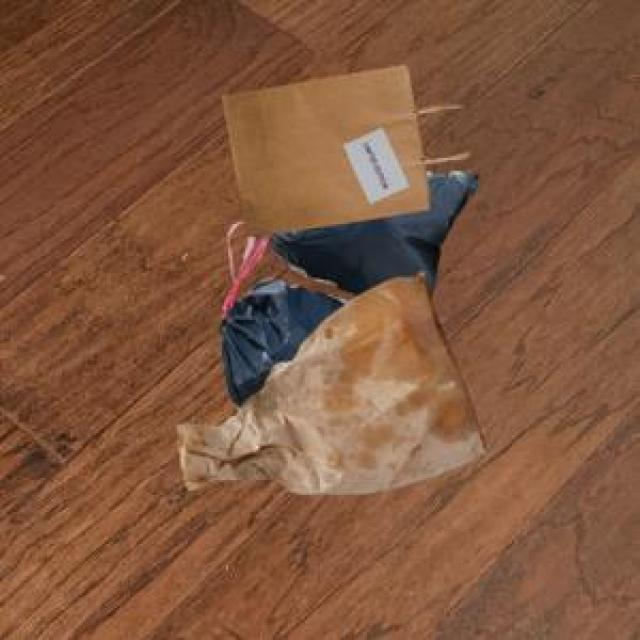miscellaneous trash: (216, 169, 475, 405)
paper: (173, 269, 484, 491), (219, 62, 465, 233)
